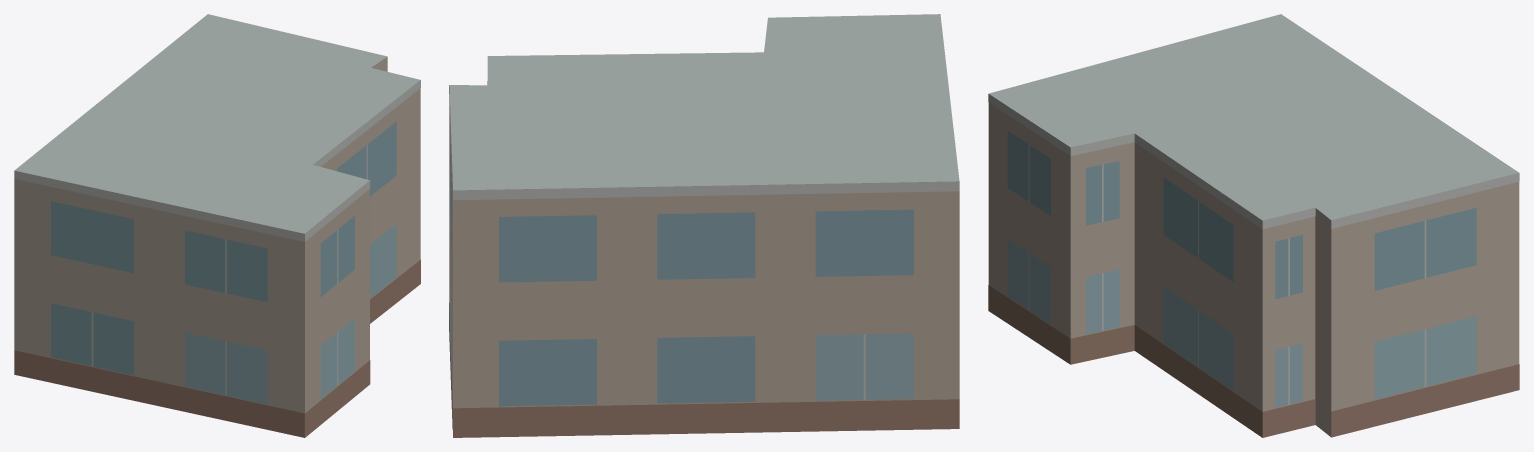
The model's file is survey-upis-32768333.glb.
3 views of the same model, side by side, from view 1: azimuth 30°, elevation 25°; view 2: azimuth 150°, elevation 25°; view 3: azimuth 270°, elevation 25° (orthographic). The views are drawn at different scales.
Parts seen in each view (by area): view 1: survey-upis-32768333.tmp; view 2: survey-upis-32768333.tmp; view 3: survey-upis-32768333.tmp.
Boxes of the visible parts, x1,y1,x2,y2 form: survey-upis-32768333.tmp: (14,14,420,437); survey-upis-32768333.tmp: (449,14,959,437); survey-upis-32768333.tmp: (988,14,1519,437).
Size of the model in its own units: 12.46 by 6.1 by 13.53.
